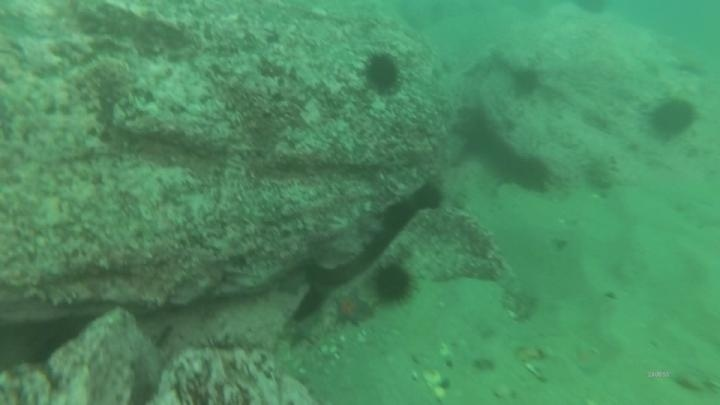echinus: (646, 95, 699, 141), (370, 261, 416, 306), (507, 153, 554, 195), (361, 50, 403, 95), (379, 199, 418, 238), (508, 65, 543, 99), (409, 181, 445, 214), (571, 1, 612, 19)
holothurian: (580, 150, 620, 195)
starfish: (329, 288, 374, 329)
